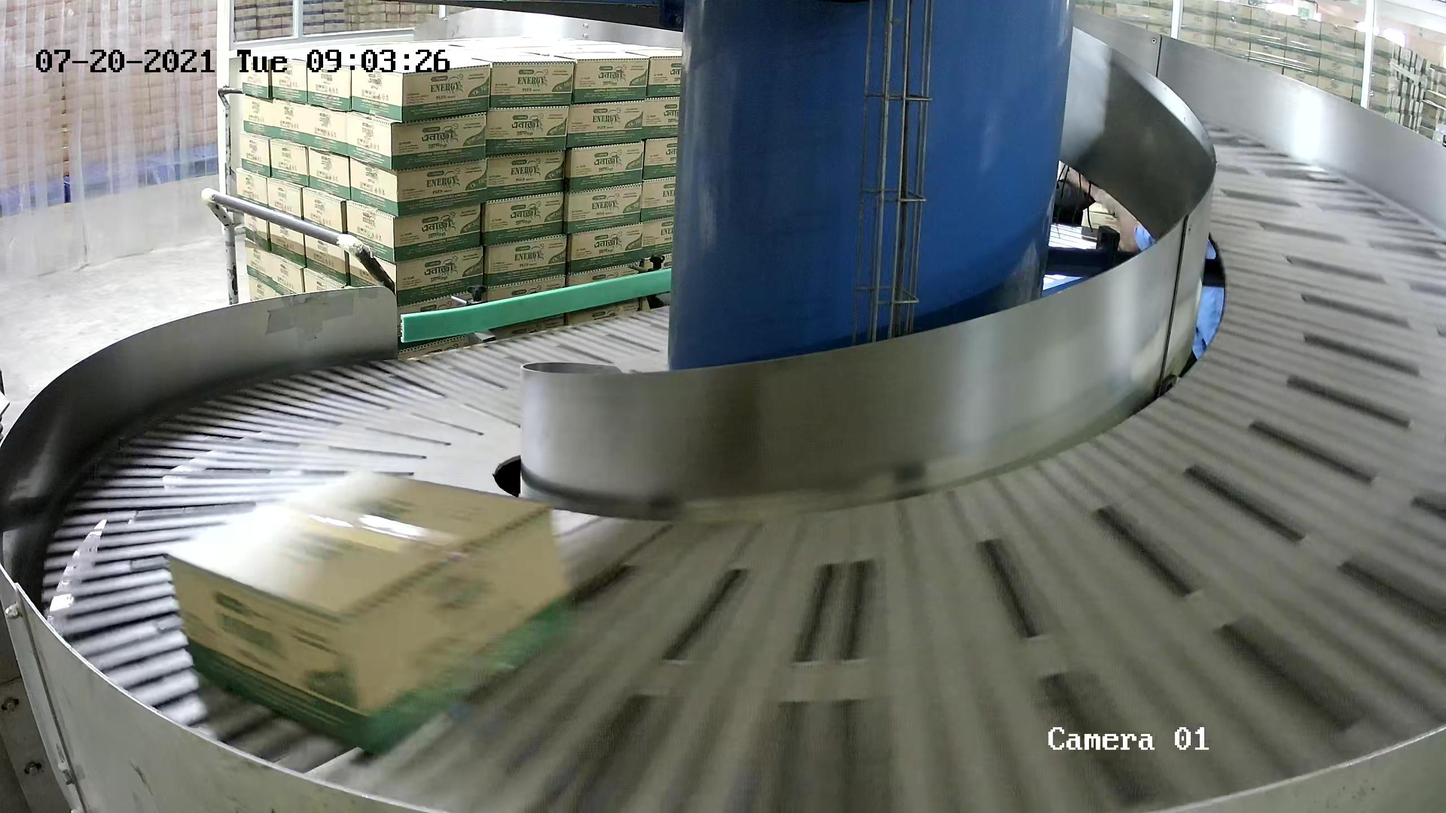Box: (162, 464, 576, 761)
